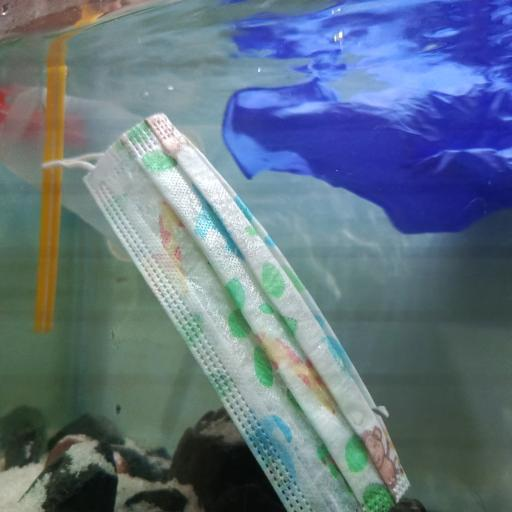glove: (224, 77, 512, 236)
mask: (44, 110, 412, 512)
plastic_cup: (0, 86, 202, 262)
plastic_straw: (32, 61, 67, 335)
